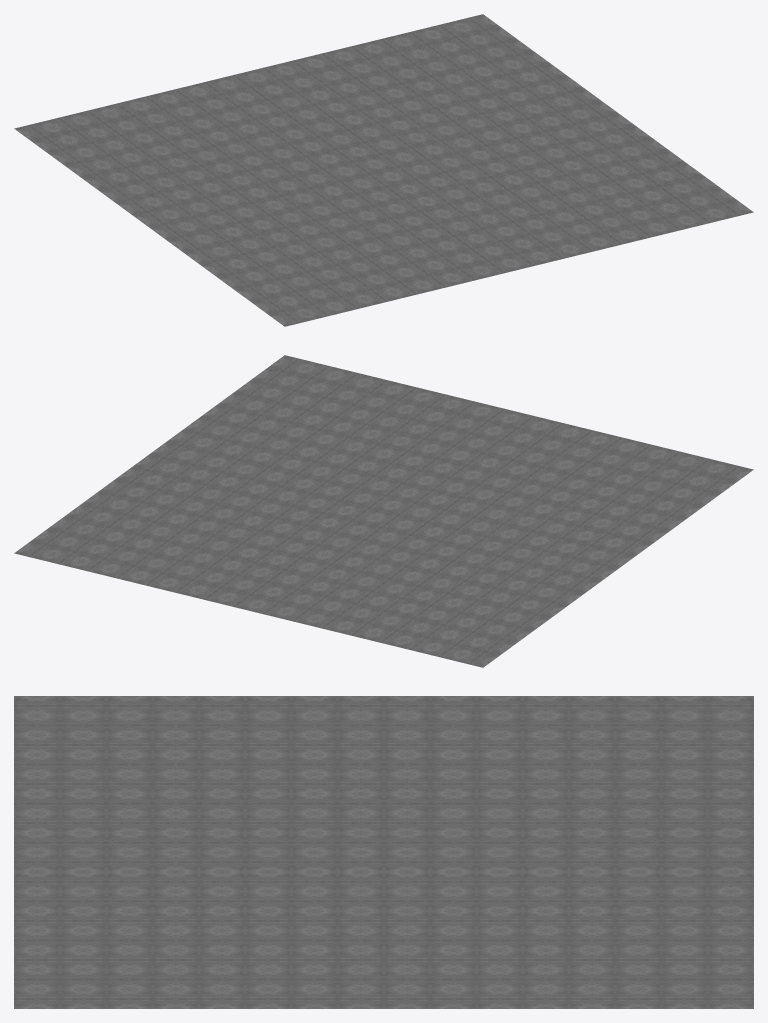
The model's file is Space_groundmesh.obj.
3 views of the same model, one above another, from view 1: azimuth 30°, elevation 25°; view 2: azimuth 150°, elevation 25°; view 3: azimuth 270°, elevation 25° (orthographic). The views are drawn at different scales.
Visible parts, largest first — view 1: pPlane1; view 2: pPlane1; view 3: pPlane1.
Part boxes in pixels (bbox=[...]): pPlane1: bbox=[14, 14, 753, 326]; pPlane1: bbox=[14, 355, 753, 667]; pPlane1: bbox=[14, 696, 753, 1008].
Size of the model in its own units: 32 by 0 by 32.
